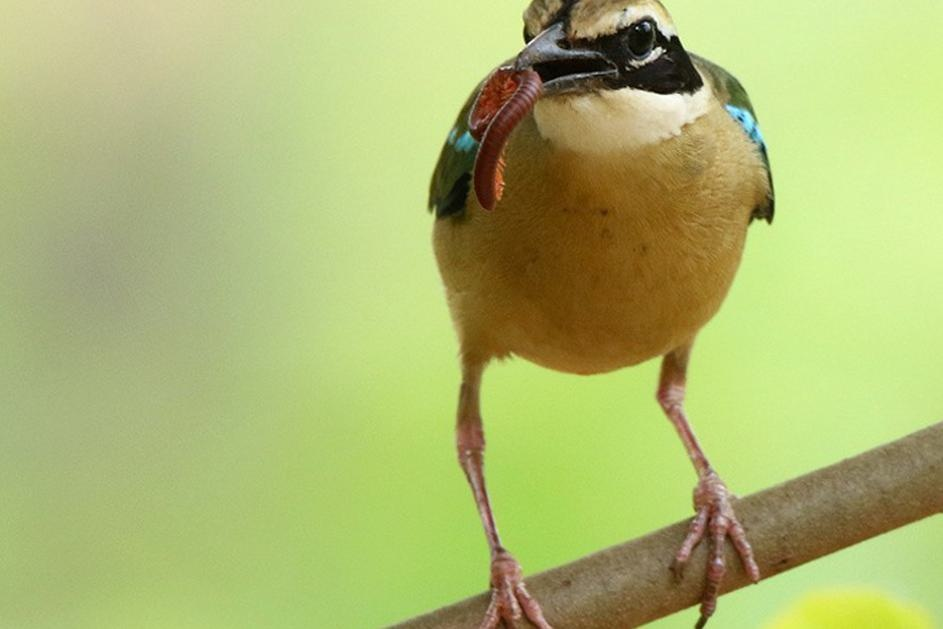pitta: (408, 9, 763, 528)
